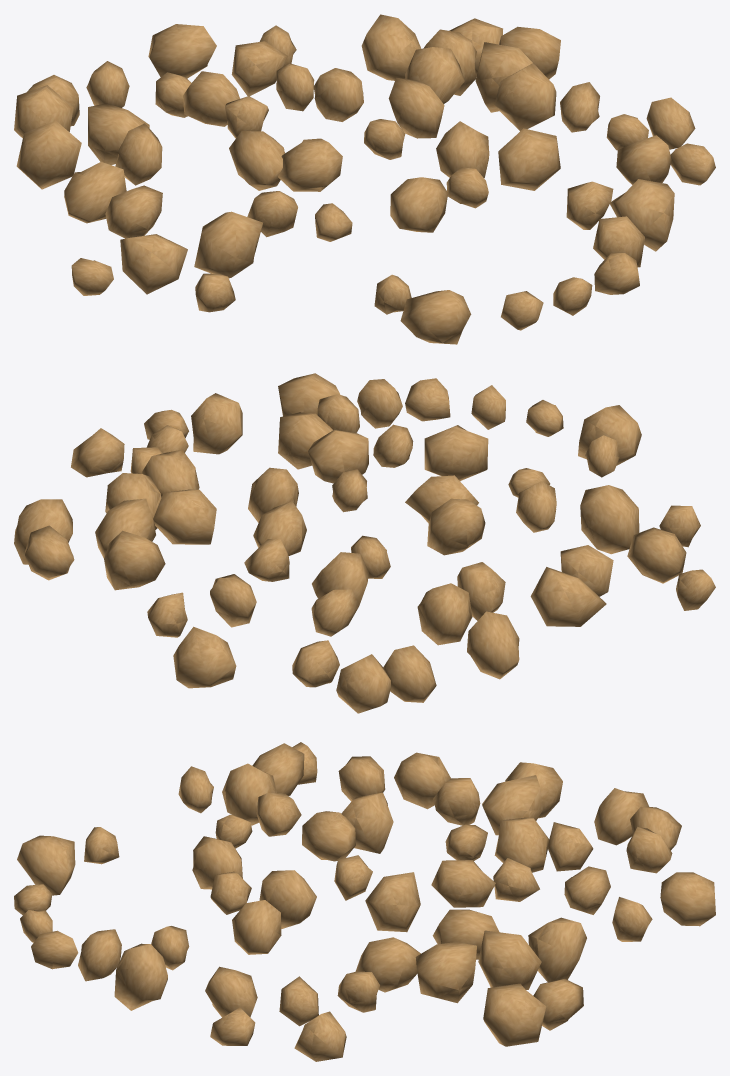
File: pacoca.glb
3 renders of one model, top to bottom at view 1: azimuth 30°, elevation 25°; view 2: azimuth 150°, elevation 25°; view 3: azimuth 270°, elevation 25°, orthographic. The views are drawn at different scales.
Parts seen in each view (by area): view 1: pacoca; view 2: pacoca; view 3: pacoca.
Part boxes in pixels (box(x1,y1,x2,y2)): pacoca: box(14, 14, 715, 344); pacoca: box(14, 373, 715, 713); pacoca: box(14, 742, 715, 1061).
Bounding box in the file's own units: 0.8581 × 0.1225 × 0.8665.
Materials: 1 (1 with a texture image).
